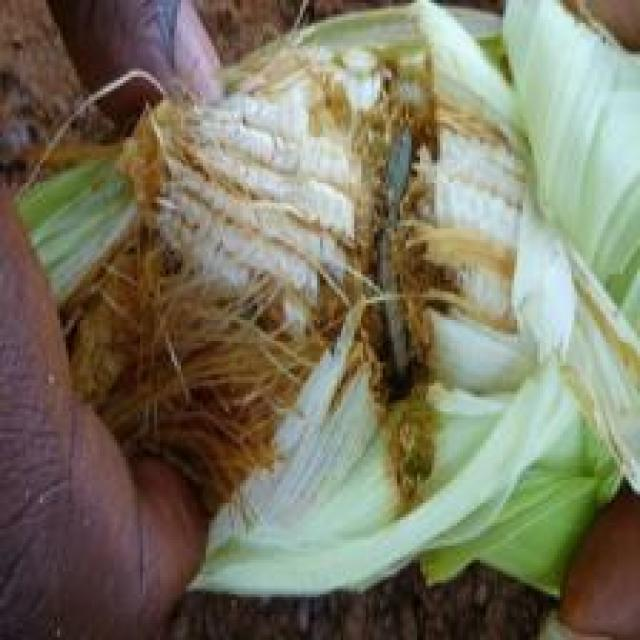Plaga: (374, 100, 437, 463)
